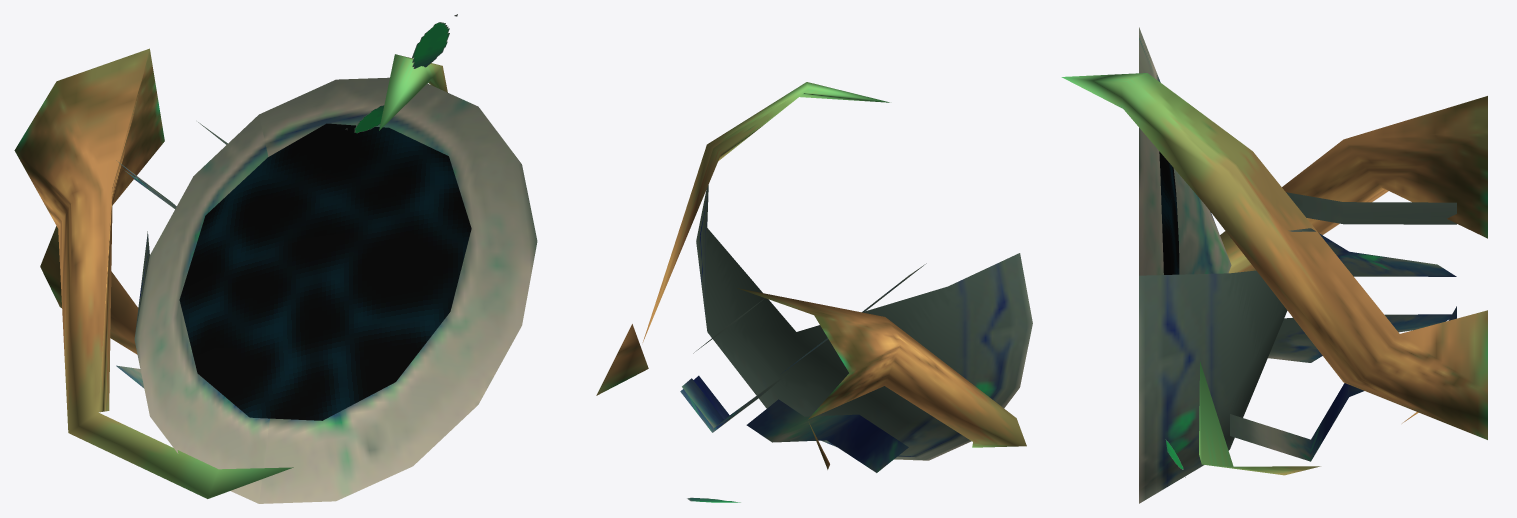
The picture shows the model from 3 angles, left to right: view 1: azimuth 30°, elevation 25°; view 2: azimuth 150°, elevation 25°; view 3: azimuth 270°, elevation 25°; orthographic projection. The views are drawn at different scales.
Parts seen in each view (by area): view 1: spritewell.model-MeshNodes["mesh_well"], spritewell.model-MeshNodes["mesh_water"]; view 2: spritewell.model-MeshNodes["mesh_well"]; view 3: spritewell.model-MeshNodes["mesh_well"], spritewell.model-MeshNodes["mesh_water"].
Boxes of the visible parts, x1,y1,x2,y2 form: spritewell.model-MeshNodes["mesh_well"]: (14, 14, 537, 503); spritewell.model-MeshNodes["mesh_water"]: (179, 123, 471, 420); spritewell.model-MeshNodes["mesh_well"]: (596, 82, 1032, 502); spritewell.model-MeshNodes["mesh_well"]: (1061, 27, 1487, 503); spritewell.model-MeshNodes["mesh_water"]: (1159, 151, 1179, 274).
Size of the model in its own units: 1.13 by 1.19 by 0.9478.
Materials: 2 (2 with a texture image).
